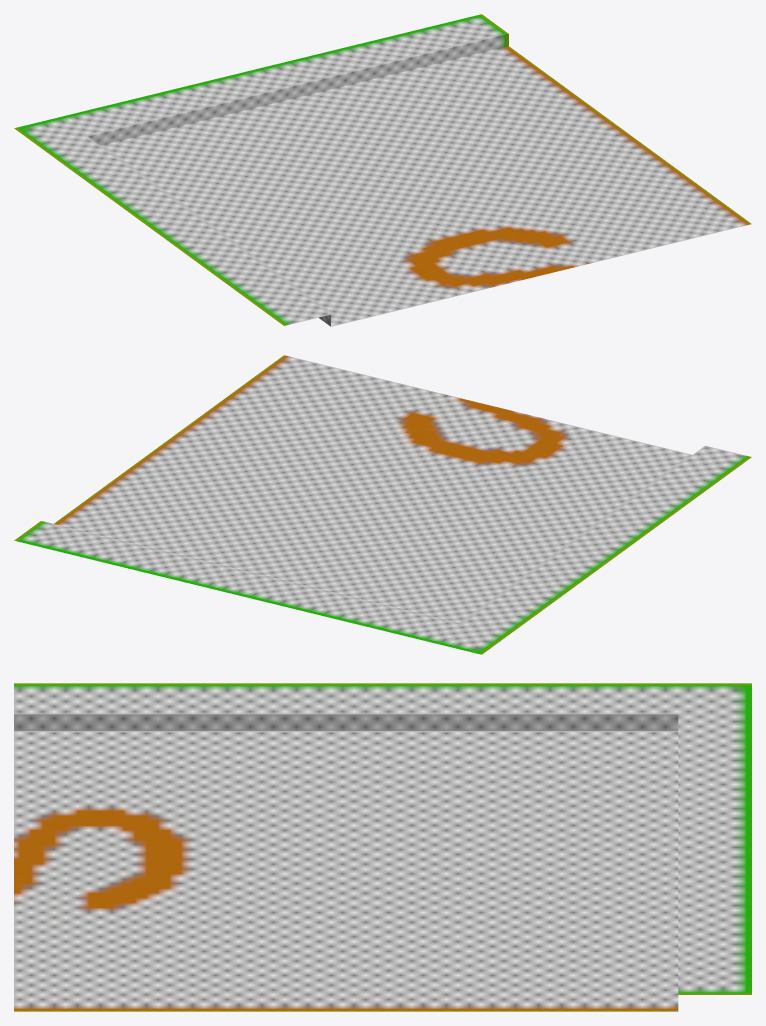
File: Street_Curve.fbx
The picture shows the model from 3 angles, top to bottom: view 1: azimuth 30°, elevation 25°; view 2: azimuth 150°, elevation 25°; view 3: azimuth 270°, elevation 25°; orthographic projection. The views are drawn at different scales.
Parts seen in each view (by area): view 1: Street_Curve; view 2: Street_Curve; view 3: Street_Curve.
Boxes of the visible parts, x1,y1,x2,y2 form: Street_Curve: [14, 14, 751, 326]; Street_Curve: [14, 355, 751, 654]; Street_Curve: [14, 683, 751, 1011].
Bounding box in the file's own units: 1000 × 25 × 1000.
